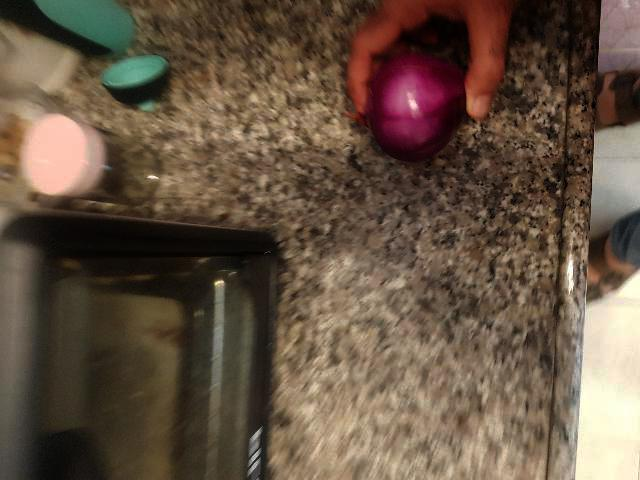onion: (318, 361, 438, 473)
